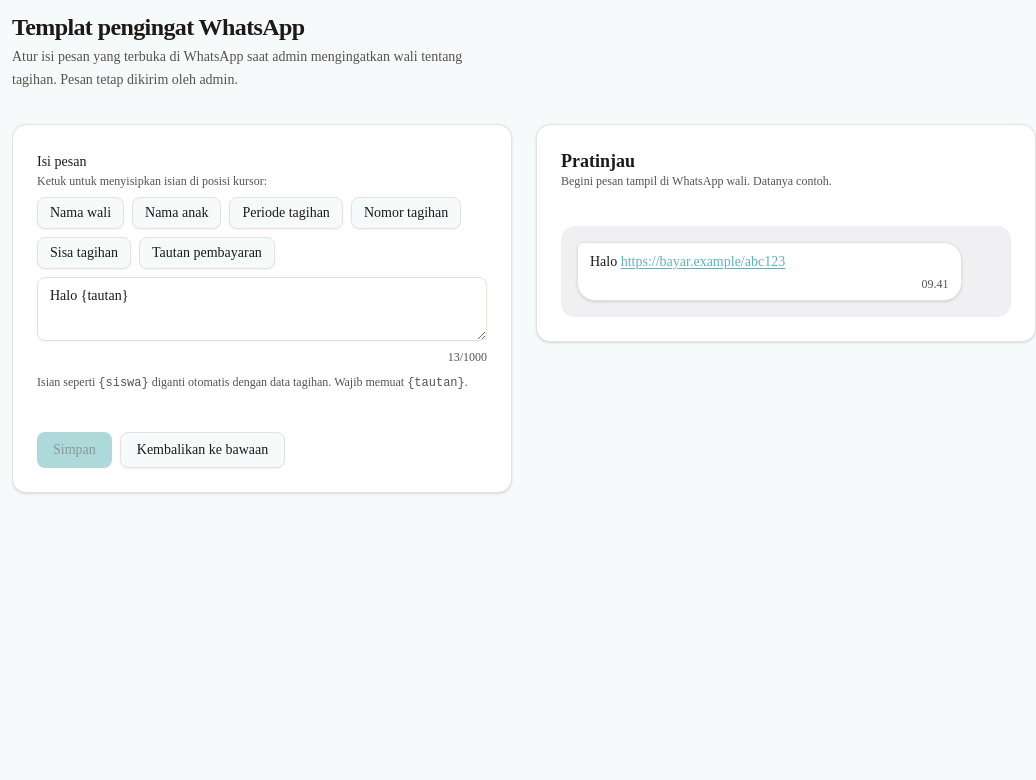
Test: ReminderTemplatePage › 'Kembalikan ke bawaan' puts the built-in text back, ready to save
The width and height of the screenshot is (1036, 780).
Expected: the text box labelled "Isi pesan" holds "Halo {tautan}", [37,277,487,341]
Step 1. Click the button "Kembalikan ke bawaan" → (202, 450), box [120,432,285,468]
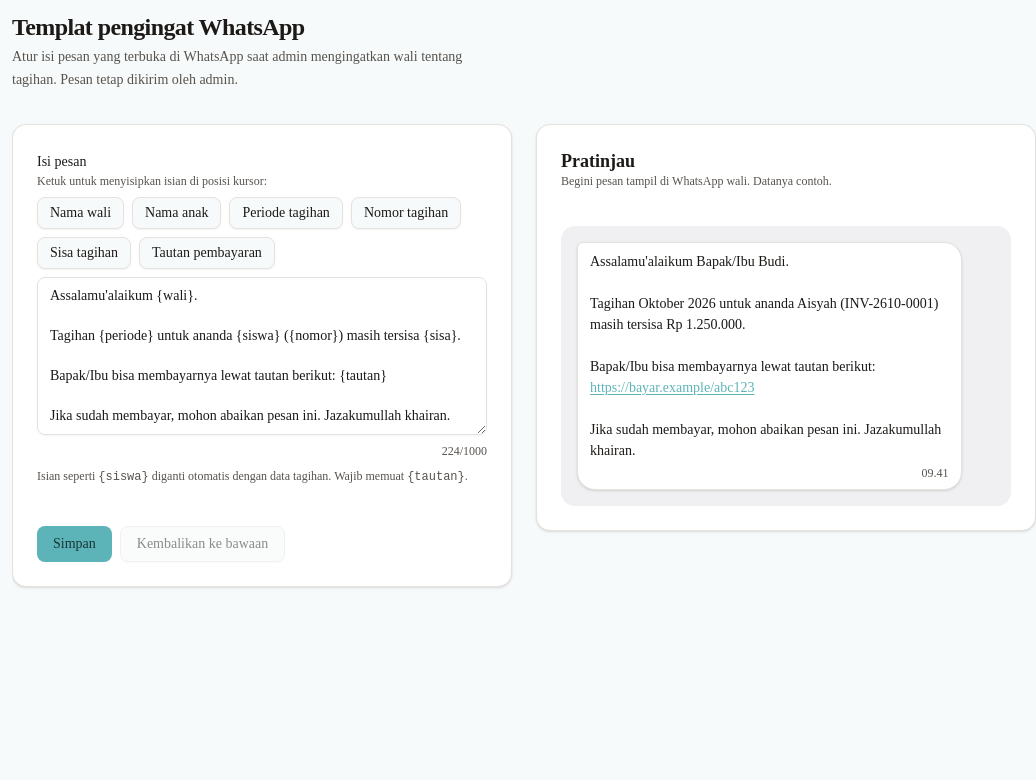
Now the button "Simpan" is enabled, box [37,526,112,562]
Now the button "Kembalikan ke bawaan" is disabled, box [120,526,285,562]
